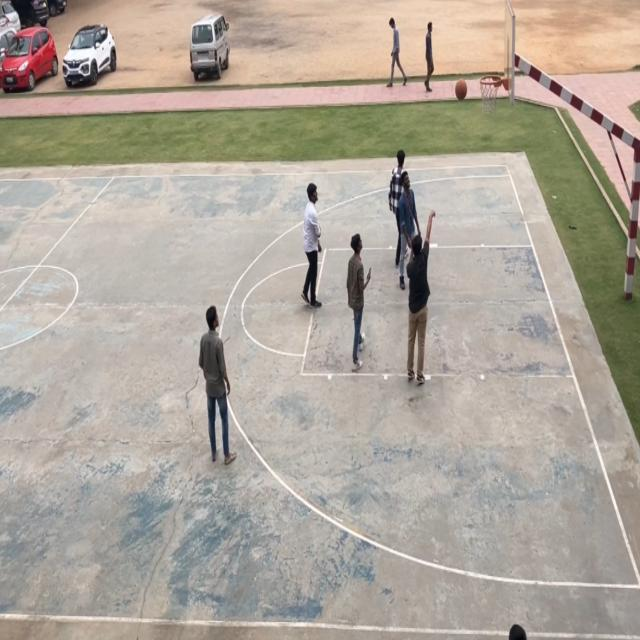basketball: (454, 76, 468, 105)
hoop: (479, 73, 504, 114)
